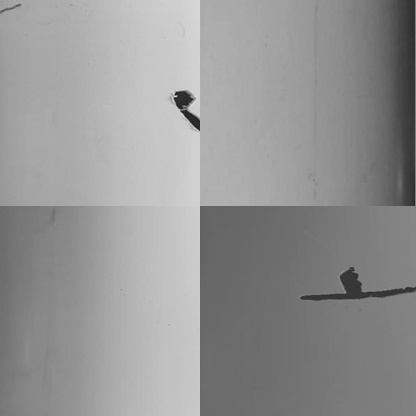fengxi: (298, 289, 413, 301)
kongdong: (172, 86, 200, 131), (337, 263, 362, 290)
sunshang: (1, 2, 24, 16)
